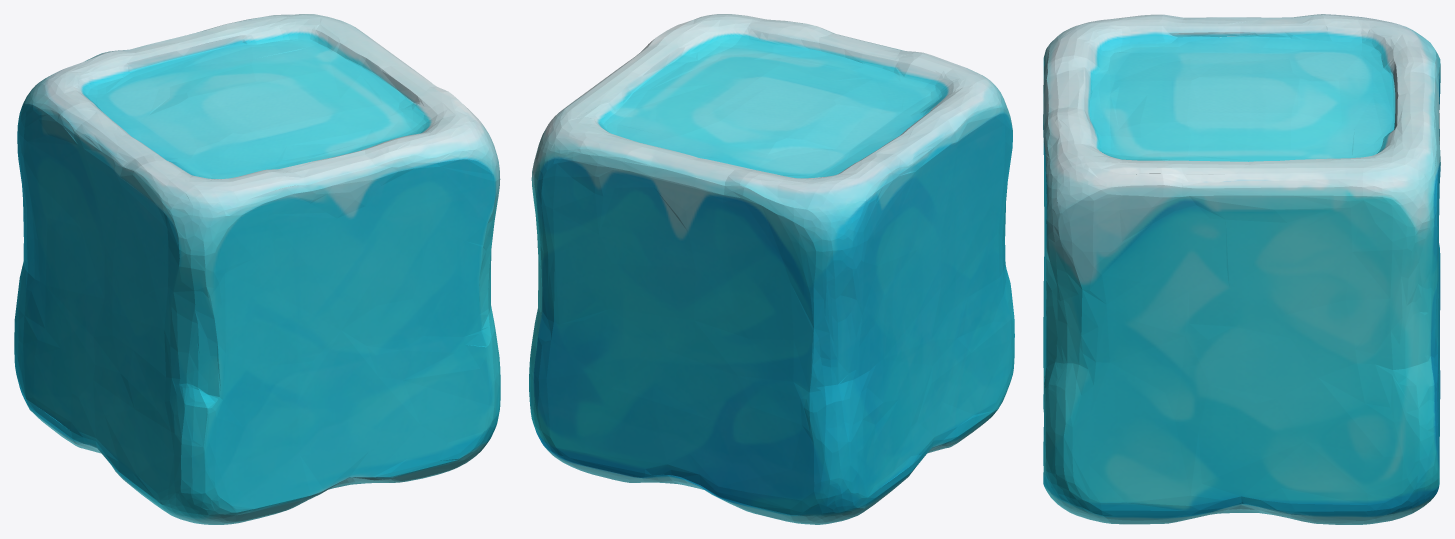
File: snow_icecube.glb
3 views of the same model, side by side, from view 1: azimuth 30°, elevation 25°; view 2: azimuth 150°, elevation 25°; view 3: azimuth 270°, elevation 25° (orthographic). The views are drawn at different scales.
Visible parts, largest first — view 1: world; view 2: world; view 3: world.
Part boxes in pixels (left/top/right/bottom): world: left=14, top=14, right=500, bottom=524; world: left=529, top=14, right=1014, bottom=524; world: left=1043, top=14, right=1440, bottom=524.
Size of the model in its own units: 0.995 by 0.9972 by 0.9892.
Materials: 1 (1 with a texture image).
